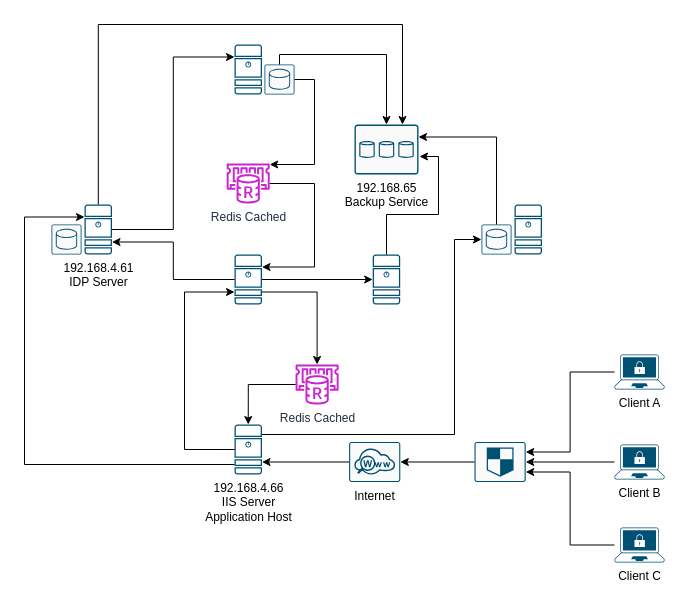
Image size: 682x601. Some labels were removed from this diagram. Here are the shapes that lost their labels. From the top down, the centre of each, then its label:
point 248,69: 192.168.4.60 SQL Server DATA
point 528,229: 192.168.4.62 Reporting Service
point 248,279: 192.168.4.63 IIS Server API Services
point 386,279: 192.168.4.64 VsFtpd Serverr File Server
point 500,461: Vpn Ssl
